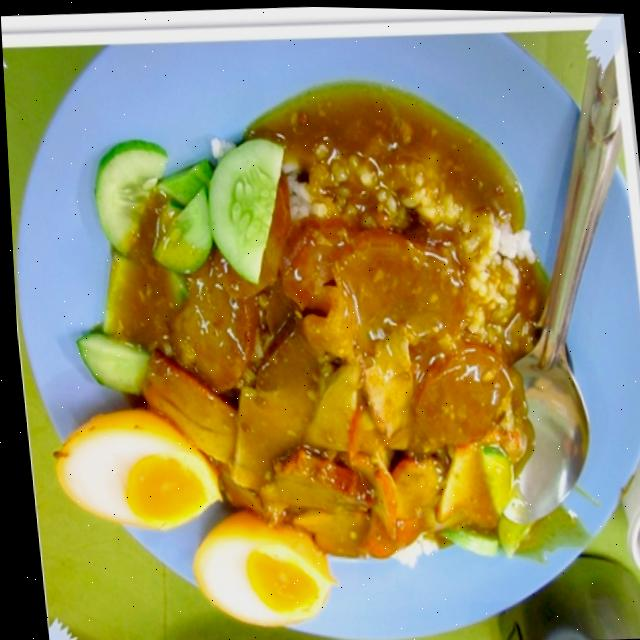猪肉菜式: (30, 58, 603, 622)
